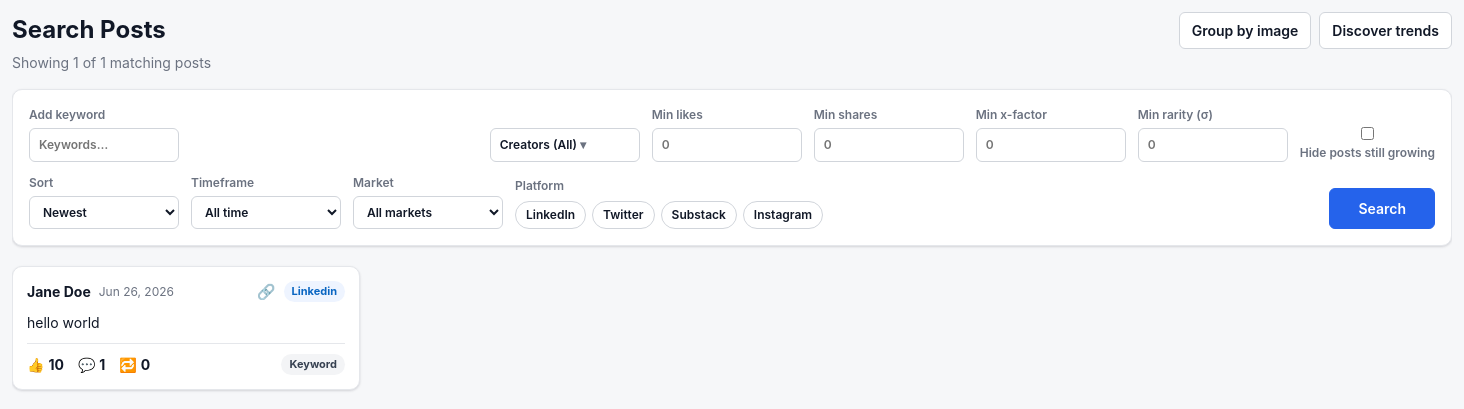
Test: DashboardClient › shows an empty-state (not a blank page) when no image groups form
The image size is (1464, 409).
Click the button "Group by image".
click(1245, 30)  # box [1179,12,1311,49]
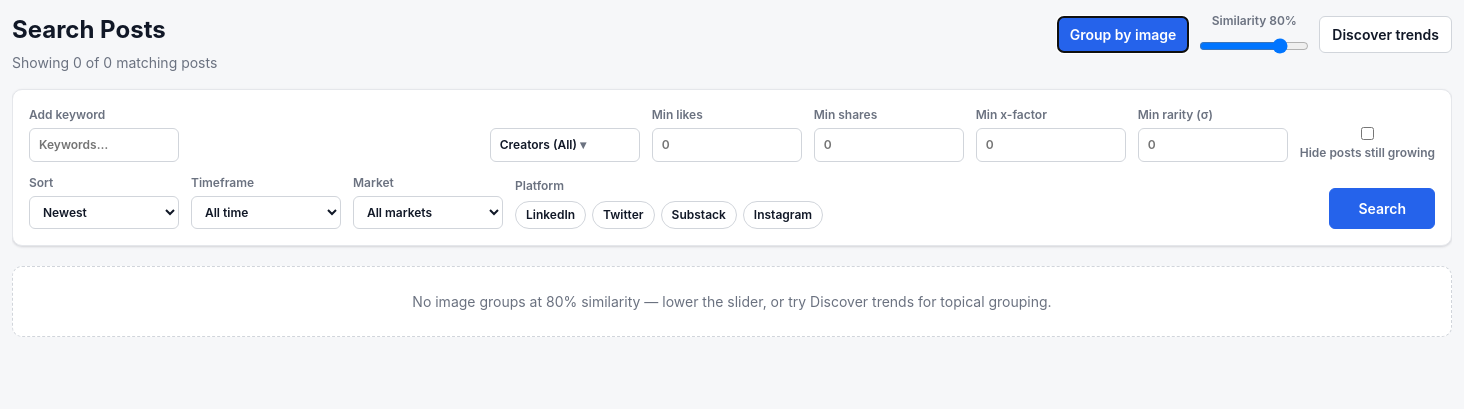
expect the text "No image groups" is shown: met, box [412,293,546,310]
